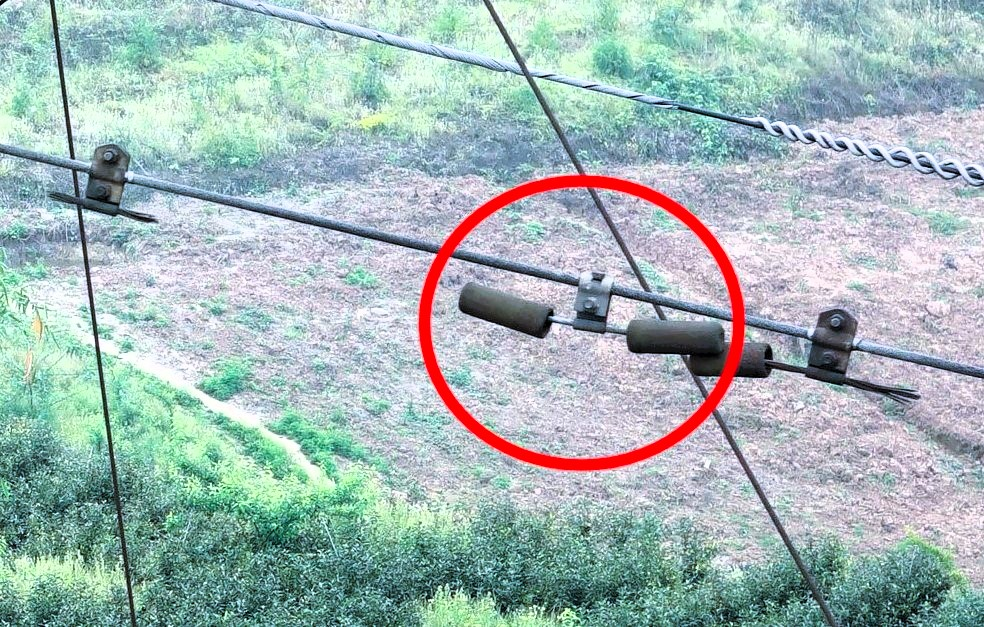Damage of shockproof hammer: (684, 284, 928, 421), (38, 134, 173, 230)
